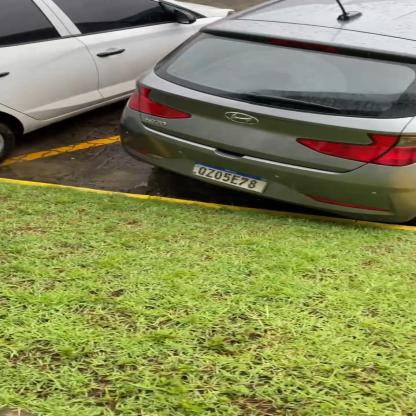Plate: (188, 160, 272, 196)
